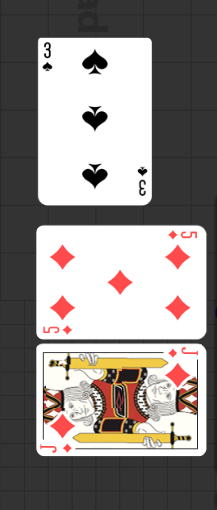3S: (42, 41, 55, 75)
5D: (42, 324, 74, 336)
9D: (39, 443, 73, 455)
